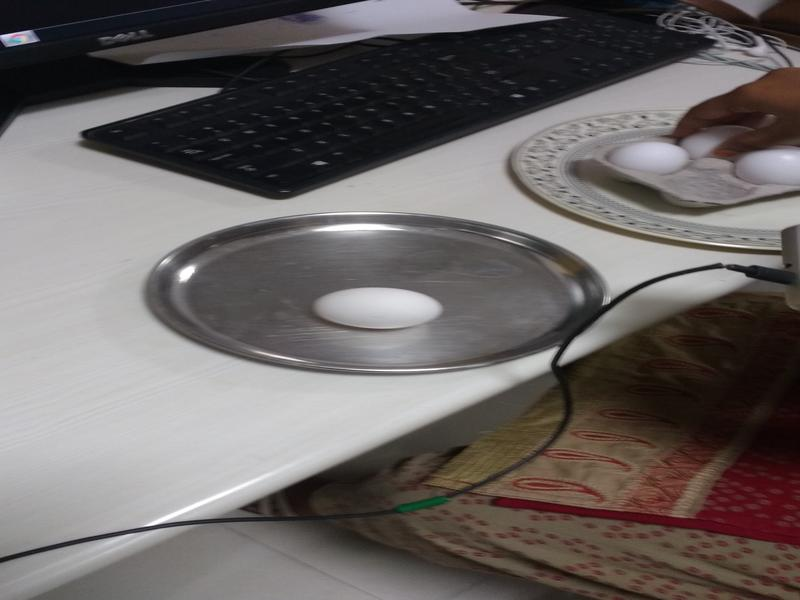egg: (319, 281, 446, 332)
